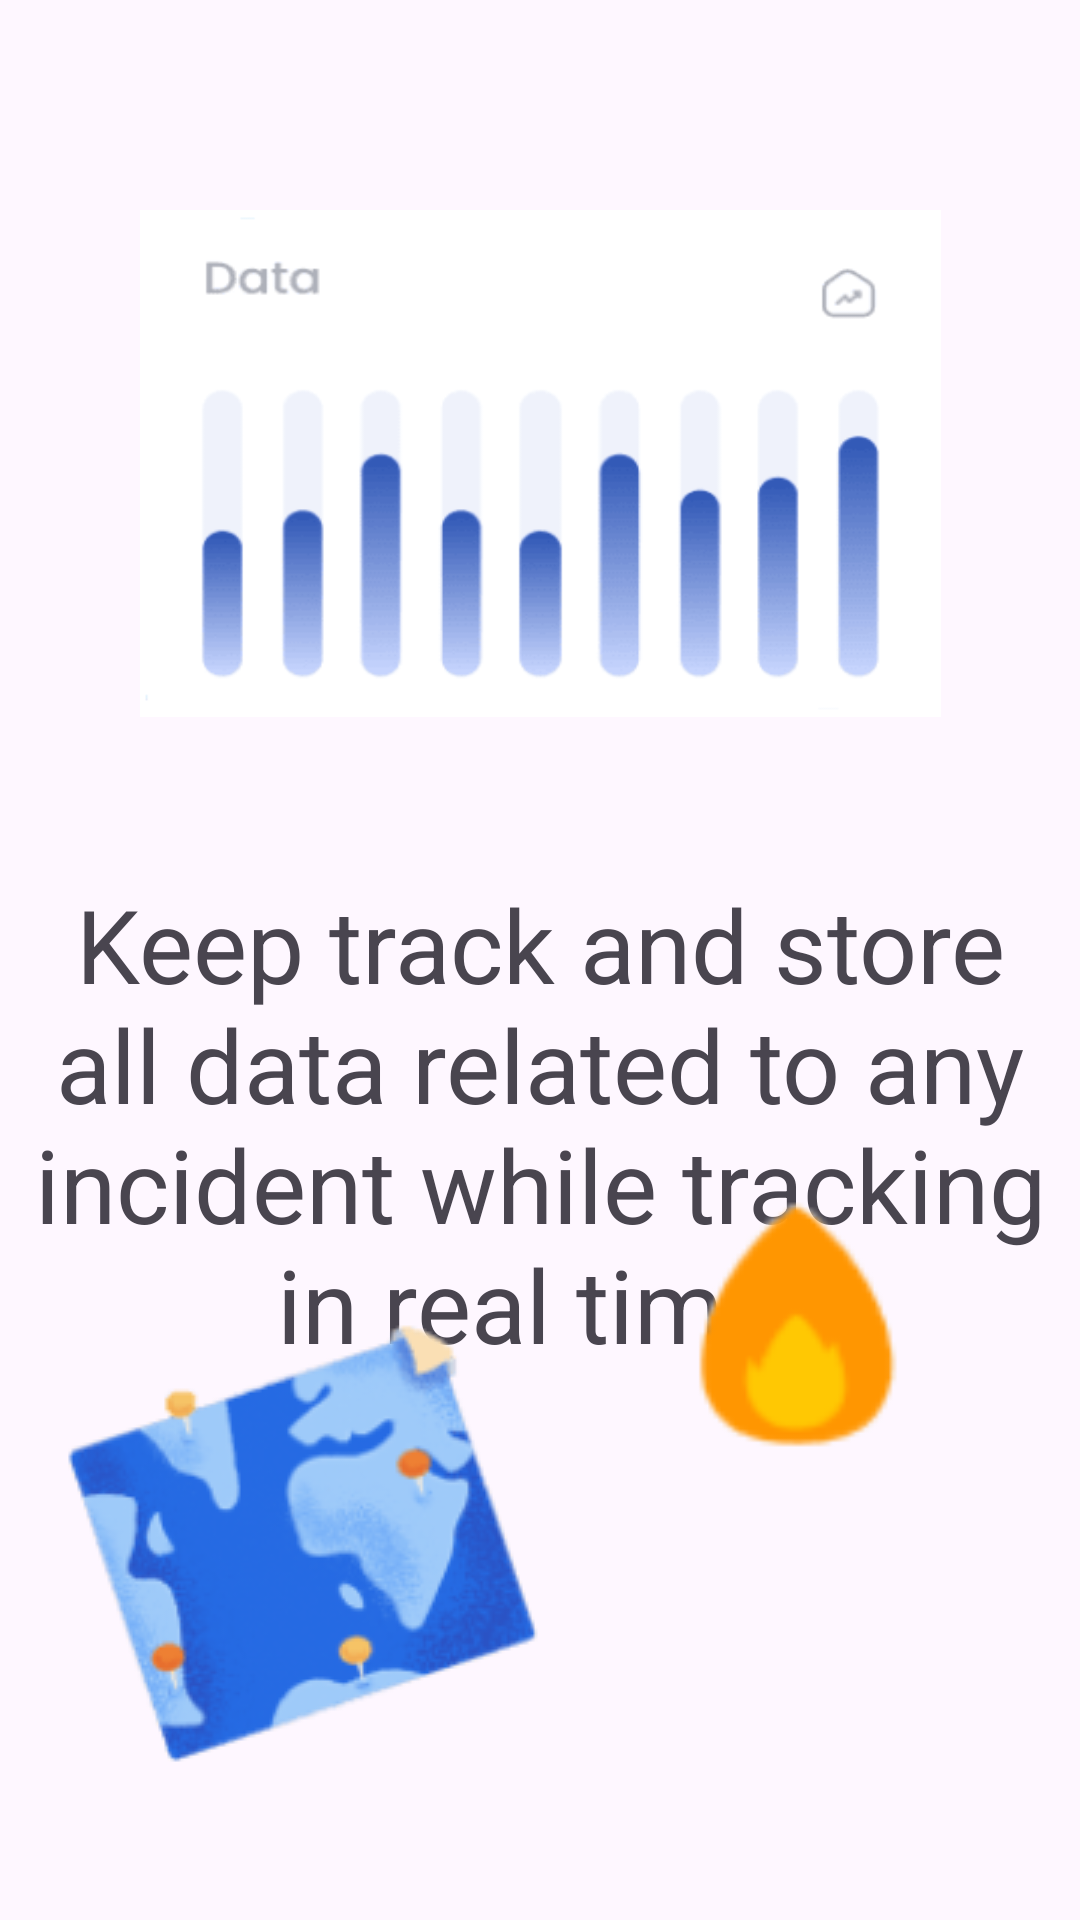

Screen size 1080px×1920px. Icon name, then its center in pixels as (x,y):
fire: (798,1322)
